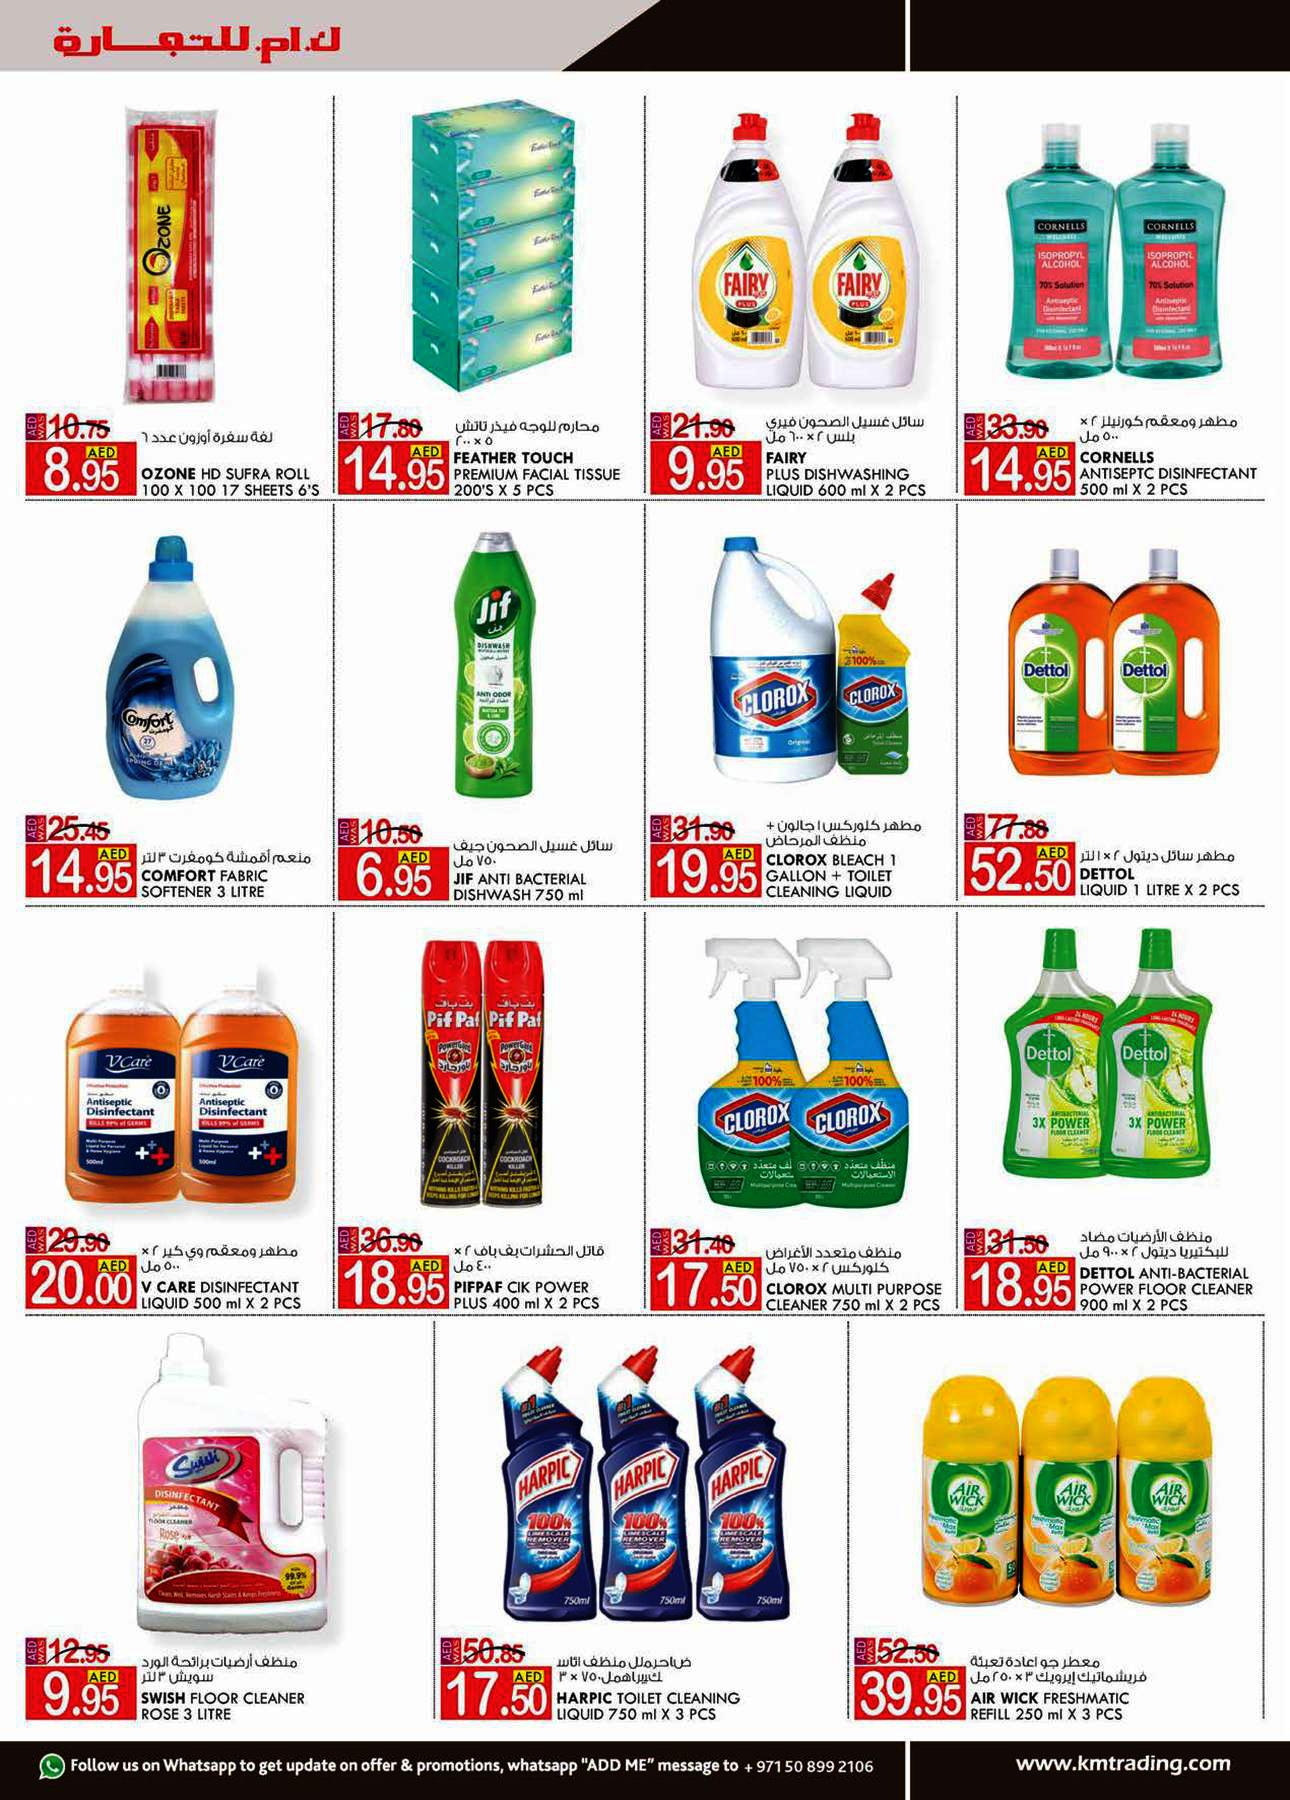text: (1075, 1213, 1261, 1314), (553, 1637, 748, 1733), (966, 1640, 1170, 1732), (1076, 400, 1268, 494), (447, 407, 635, 501), (134, 412, 331, 500), (764, 406, 942, 501), (764, 807, 934, 901), (451, 1227, 628, 1314), (764, 1238, 952, 1317), (135, 1229, 313, 1313), (1075, 825, 1251, 901), (450, 832, 623, 906), (137, 839, 321, 906), (138, 1652, 310, 1723)
